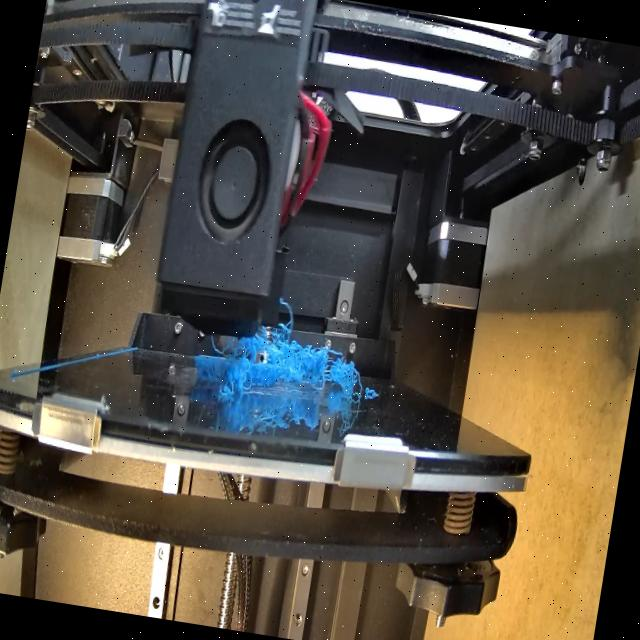spaghetti: (254, 328, 364, 394), (212, 334, 261, 404)
